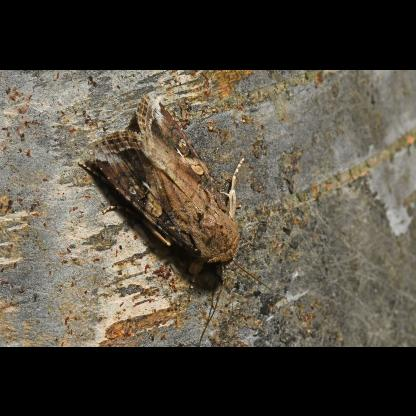Fall Armyworm Moth: (76, 90, 276, 346)
